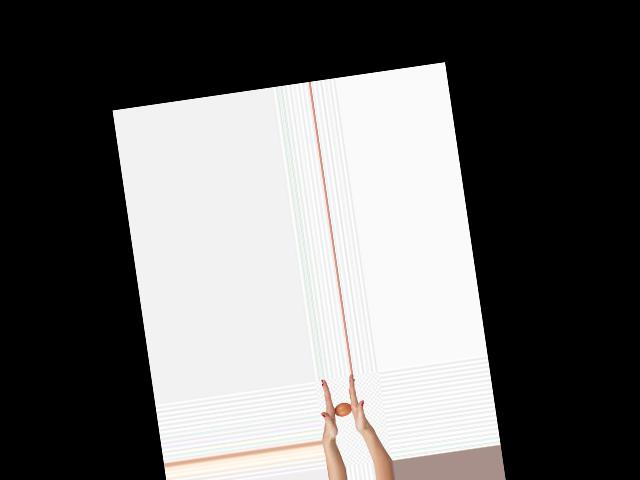egg: (334, 402, 352, 417)
